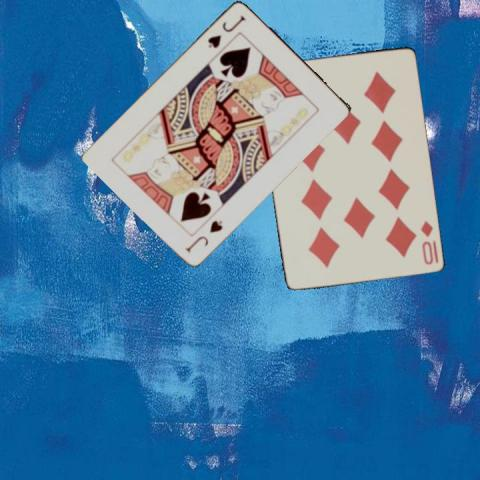10d: (417, 218, 435, 266)
Js: (182, 216, 224, 254), (204, 12, 246, 49)
